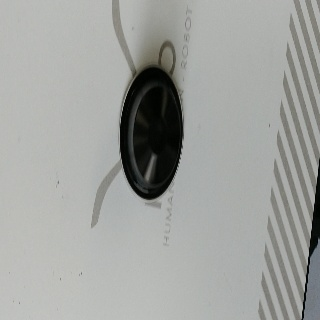capsule_10: (118, 63, 185, 202)
